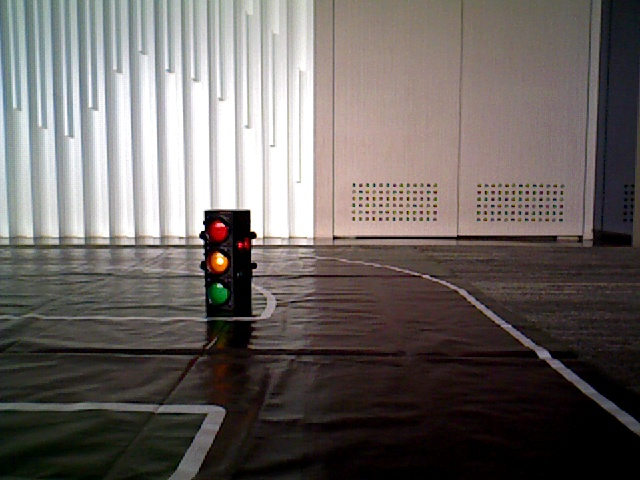yellow: (202, 215, 235, 315)
